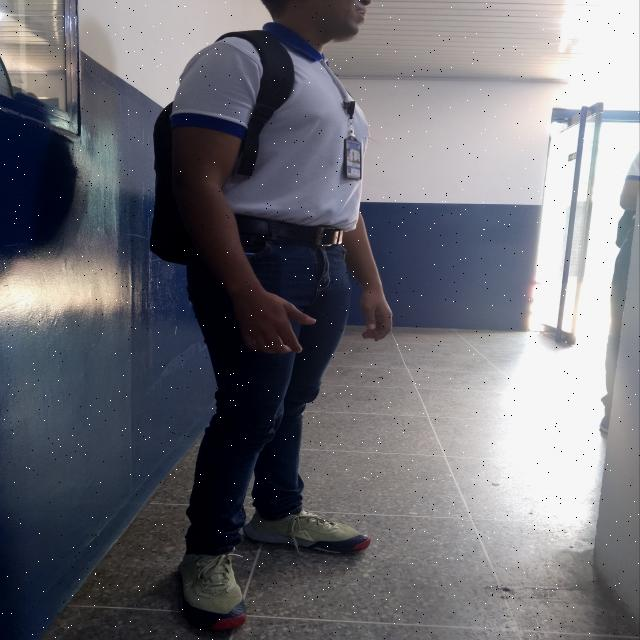carnet: (345, 137, 365, 178)
pantalon_oscuro: (184, 238, 354, 555)
uniforme_superior: (169, 21, 365, 232)
